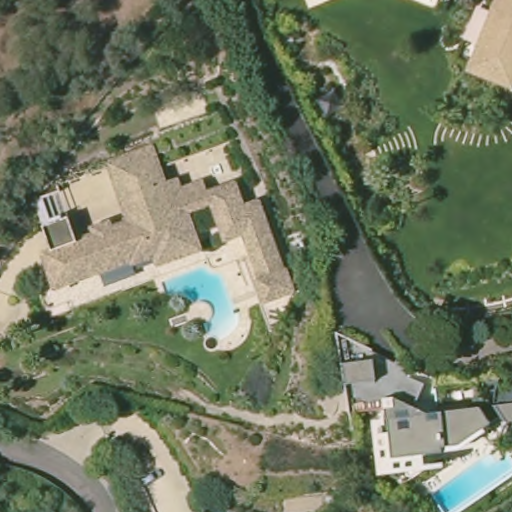pool: (162, 267, 239, 341), (430, 448, 512, 512)
